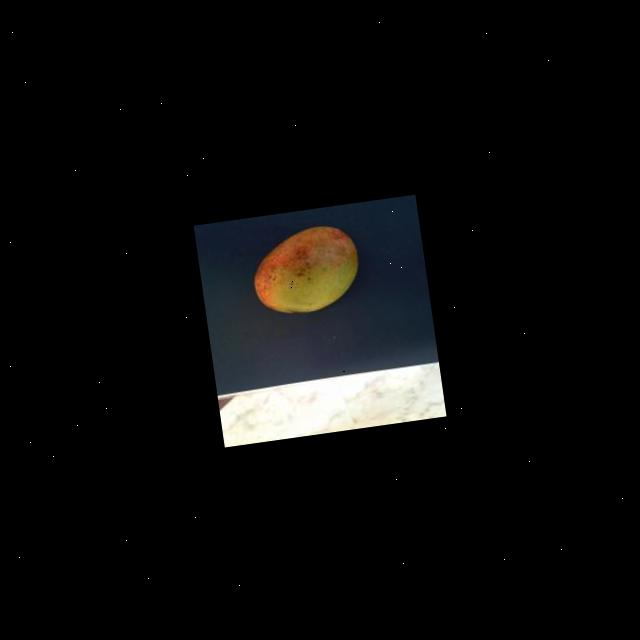Mango: (246, 220, 364, 318)
